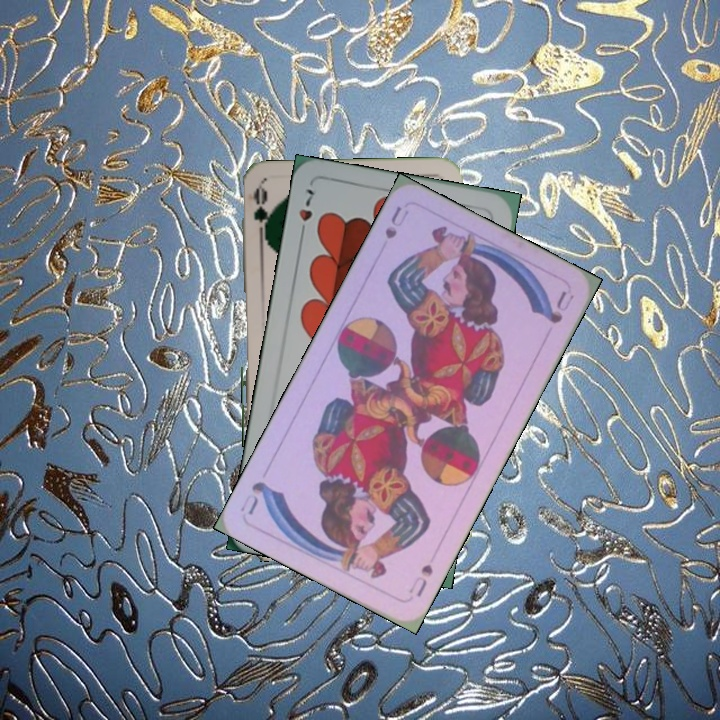GO: (249, 185, 271, 245)
H7: (294, 185, 317, 241)
SU: (380, 202, 412, 242), (404, 560, 436, 599)
